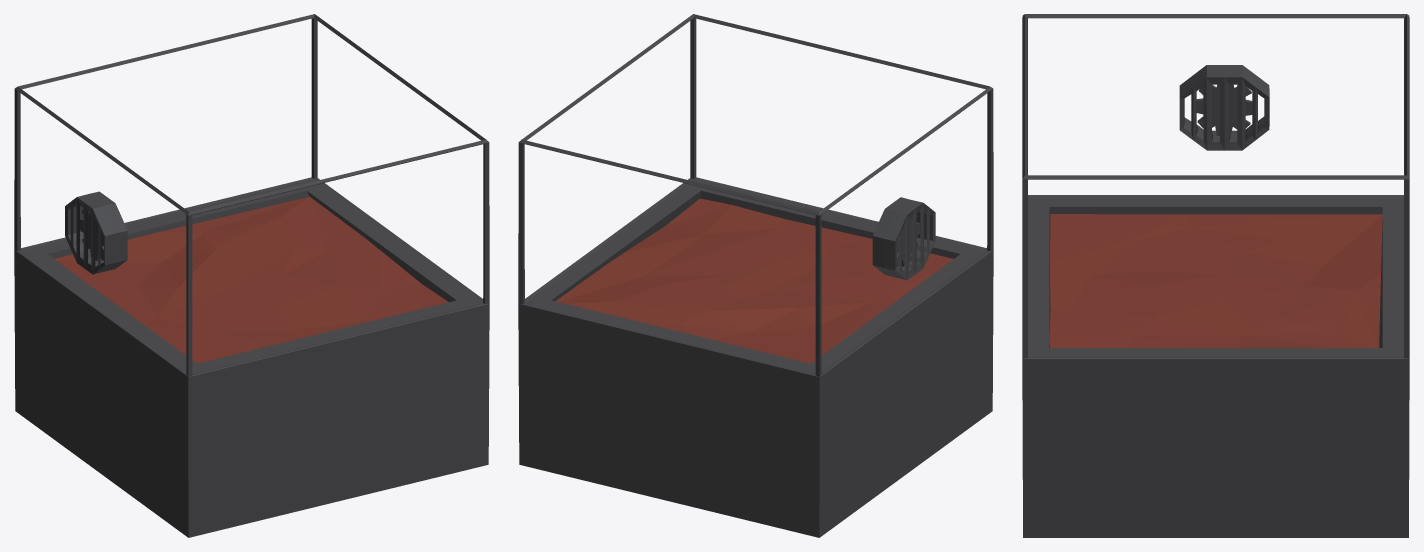
Rendered from PlantBacBig.fbx.
3 views of the same model, side by side, from view 1: azimuth 30°, elevation 25°; view 2: azimuth 150°, elevation 25°; view 3: azimuth 270°, elevation 25° (orthographic). The views are drawn at different scales.
Visible parts, largest first — view 1: PlantBacBig, PlantBacBigAeration; view 2: PlantBacBig, PlantBacBigAeration; view 3: PlantBacBig, PlantBacBigAeration, PlantBacBigAerationRotor.
Part boxes in pixels (bbox=[...]): PlantBacBig: bbox=[14, 14, 489, 537]; PlantBacBigAeration: bbox=[65, 191, 127, 274]; PlantBacBig: bbox=[518, 14, 993, 537]; PlantBacBigAeration: bbox=[872, 197, 935, 280]; PlantBacBig: bbox=[1022, 14, 1409, 537]; PlantBacBigAeration: bbox=[1179, 65, 1269, 150]; PlantBacBigAerationRotor: bbox=[1196, 84, 1252, 136].
Bounding box in the file's own units: 1.39 × 1.38 × 1.34.
